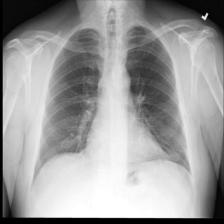normal: (30, 22, 194, 182)
